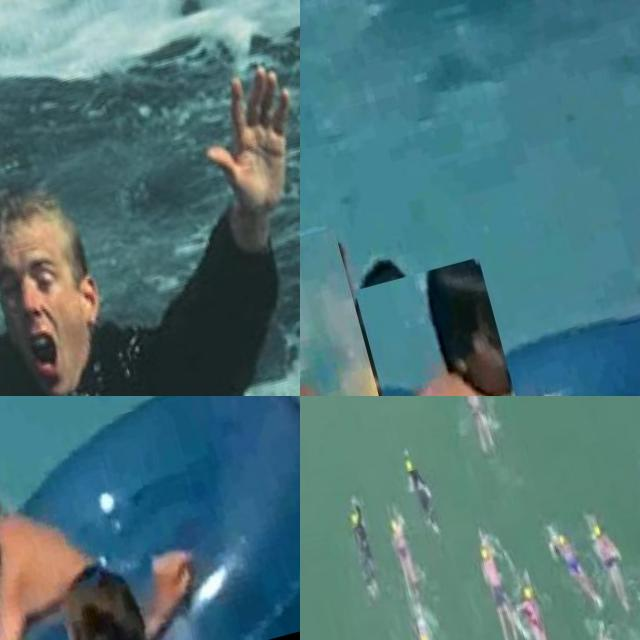drowning: (0, 0, 300, 396)
swimming: (354, 256, 536, 396), (58, 533, 222, 640), (300, 225, 397, 396), (0, 396, 64, 640), (580, 493, 638, 617), (469, 527, 528, 640), (542, 508, 602, 619), (513, 567, 572, 640)
